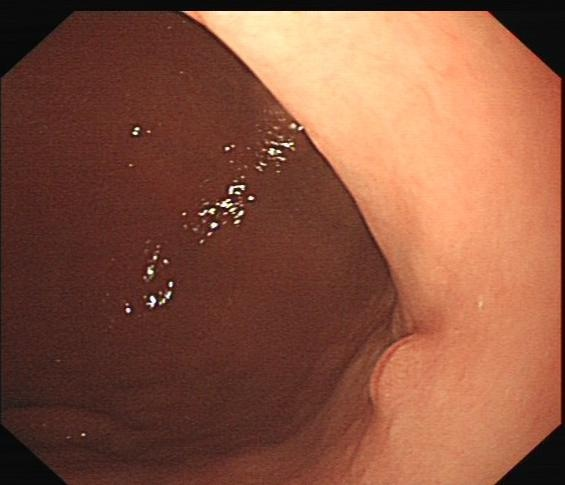Polyp: (354, 311, 457, 429)
